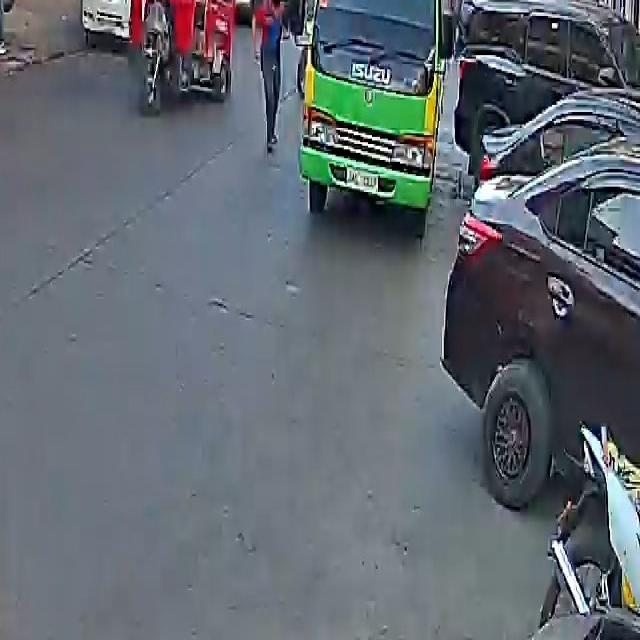car: (443, 150, 640, 508), (452, 0, 640, 185), (81, 0, 143, 59)
